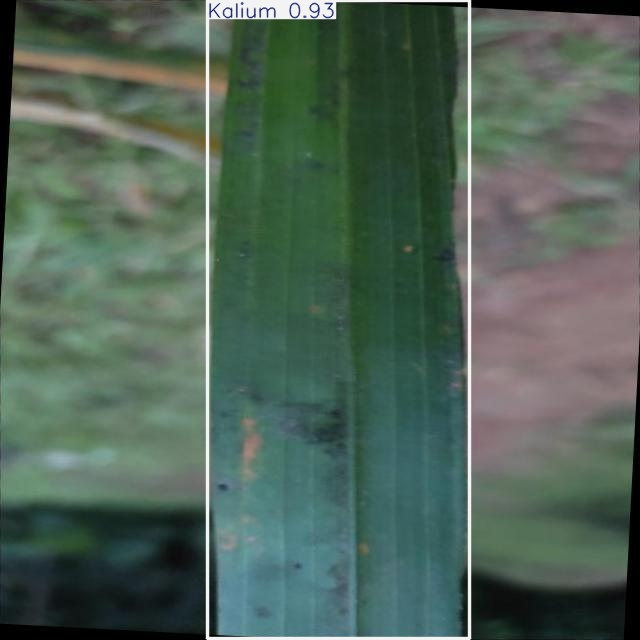Kalium: (208, 1, 470, 639)
